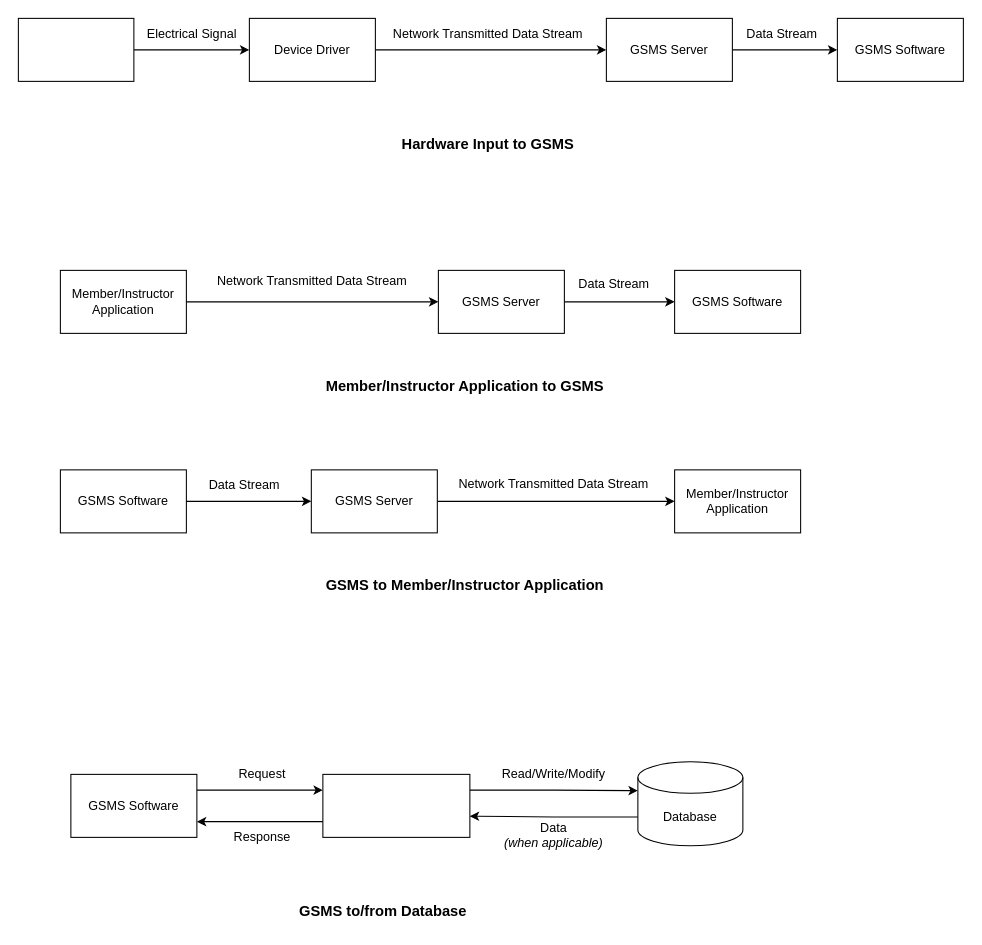
Image size: 982x945. Some labels were removed from this diagram. The centre of each missing label's shape, as x and y in pixels:
"Database Management System" goes at (x=396, y=805).
"Hardware Device" goes at (x=75, y=49).
